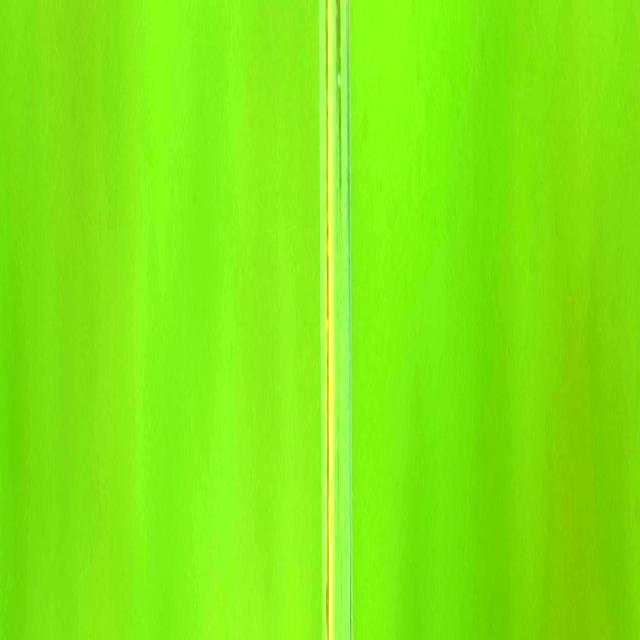BLS: (324, 1, 329, 640), (335, 0, 341, 262), (346, 1, 349, 306), (350, 553, 352, 640)
